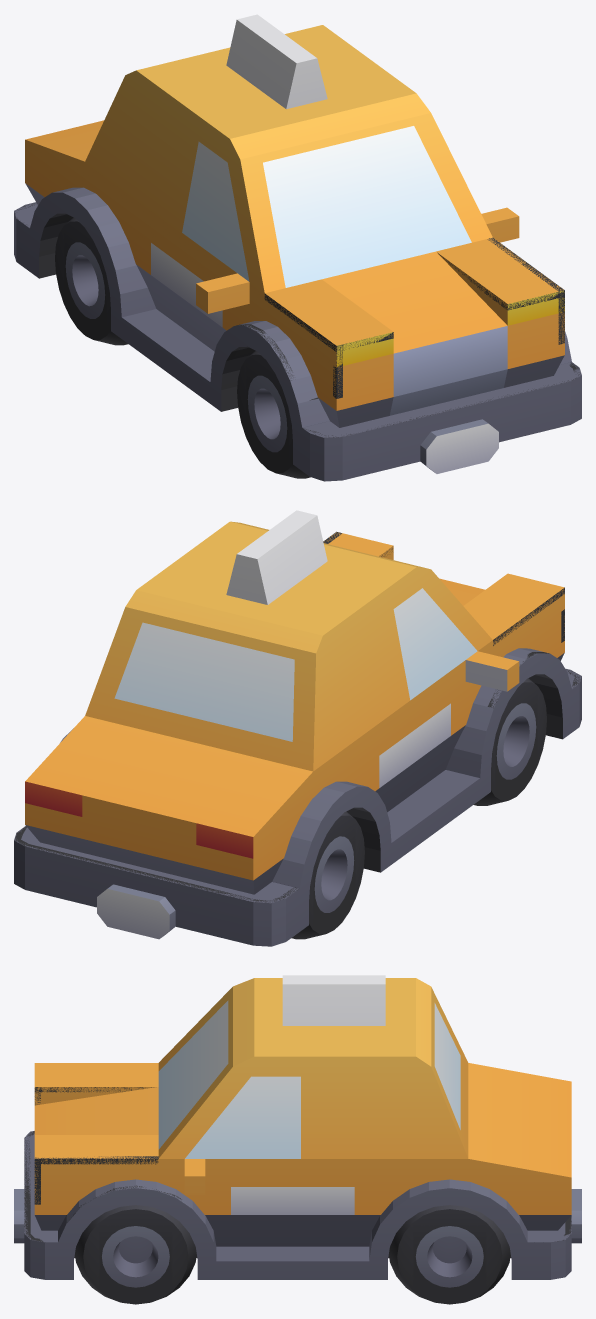
The model's file is ToyTaxi.fbx.
3 renders of one model, top to bottom at view 1: azimuth 30°, elevation 25°; view 2: azimuth 150°, elevation 25°; view 3: azimuth 270°, elevation 25°, orthographic. The views are drawn at different scales.
Parts seen in each view (by area): view 1: ToyTaxi_Body, ToyTaxi_Part_FrontBumper, ToyTaxi_Part_Hood, ToyTaxi_Part_Grille, ToyTaxi_Part_FenderRight, ToyTaxi_Part_DoorRight, Wheel_FR, Wheel_RR, ToyTaxi_Part_RearBumper, ToyTaxi_Part_Trunk; view 2: ToyTaxi_Body, ToyTaxi_Part_Trunk, ToyTaxi_Part_RearBumper, ToyTaxi_Part_DoorRight, Wheel_RR, Wheel_FR, ToyTaxi_Part_Hood, ToyTaxi_Part_FenderRight, ToyTaxi_Part_FrontBumper; view 3: ToyTaxi_Body, ToyTaxi_Part_Hood, ToyTaxi_Part_Trunk, ToyTaxi_Part_DoorLeft, Wheel_FL, Wheel_RL, ToyTaxi_Part_FenderLeft, ToyTaxi_Part_RearBumper, ToyTaxi_Part_FrontBumper.
Part boxes in pixels (x1=…): ToyTaxi_Body: x1=14, y1=14, x2=581, y2=473; ToyTaxi_Part_FrontBumper: x1=288, y1=338, x2=581, y2=481; ToyTaxi_Part_Hood: x1=265, y1=238, x2=563, y2=353; ToyTaxi_Part_Grille: x1=338, y1=291, x2=564, y2=397; ToyTaxi_Part_FenderRight: x1=224, y1=226, x2=336, y2=397; ToyTaxi_Part_DoorRight: x1=137, y1=213, x2=243, y2=330; Wheel_FR: x1=237, y1=350, x2=310, y2=478; Wheel_RR: x1=55, y1=217, x2=128, y2=345; ToyTaxi_Part_RearBumper: x1=14, y1=171, x2=53, y2=278; ToyTaxi_Part_Trunk: x1=25, y1=120, x2=103, y2=161; ToyTaxi_Body: x1=14, y1=510, x2=581, y2=939; ToyTaxi_Part_Trunk: x1=25, y1=716, x2=312, y2=836; ToyTaxi_Part_RearBumper: x1=14, y1=813, x2=308, y2=946; ToyTaxi_Part_DoorRight: x1=366, y1=660, x2=471, y2=791; Wheel_RR: x1=291, y1=811, x2=364, y2=939; Wheel_FR: x1=473, y1=678, x2=546, y2=805; ToyTaxi_Part_Hood: x1=324, y1=532, x2=564, y2=639; ToyTaxi_Part_FenderRight: x1=462, y1=588, x2=564, y2=733; ToyTaxi_Part_FrontBumper: x1=534, y1=653, x2=581, y2=739; ToyTaxi_Body: x1=14, y1=975, x2=581, y2=1279; ToyTaxi_Part_Hood: x1=34, y1=1063, x2=158, y2=1158; ToyTaxi_Part_Trunk: x1=468, y1=1063, x2=571, y2=1177; ToyTaxi_Part_DoorLeft: x1=195, y1=1159, x2=377, y2=1216; Wheel_FL: x1=75, y1=1205, x2=196, y2=1304; Wheel_RL: x1=388, y1=1205, x2=510, y2=1304; ToyTaxi_Part_FenderLeft: x1=34, y1=1159, x2=195, y2=1232; ToyTaxi_Part_RearBumper: x1=510, y1=1204, x2=571, y2=1279; ToyTaxi_Part_FrontBumper: x1=24, y1=1213, x2=81, y2=1279.
Size of the model in its own units: 1.5 by 1.5 by 2.75.
3 materials, 3 textured.
